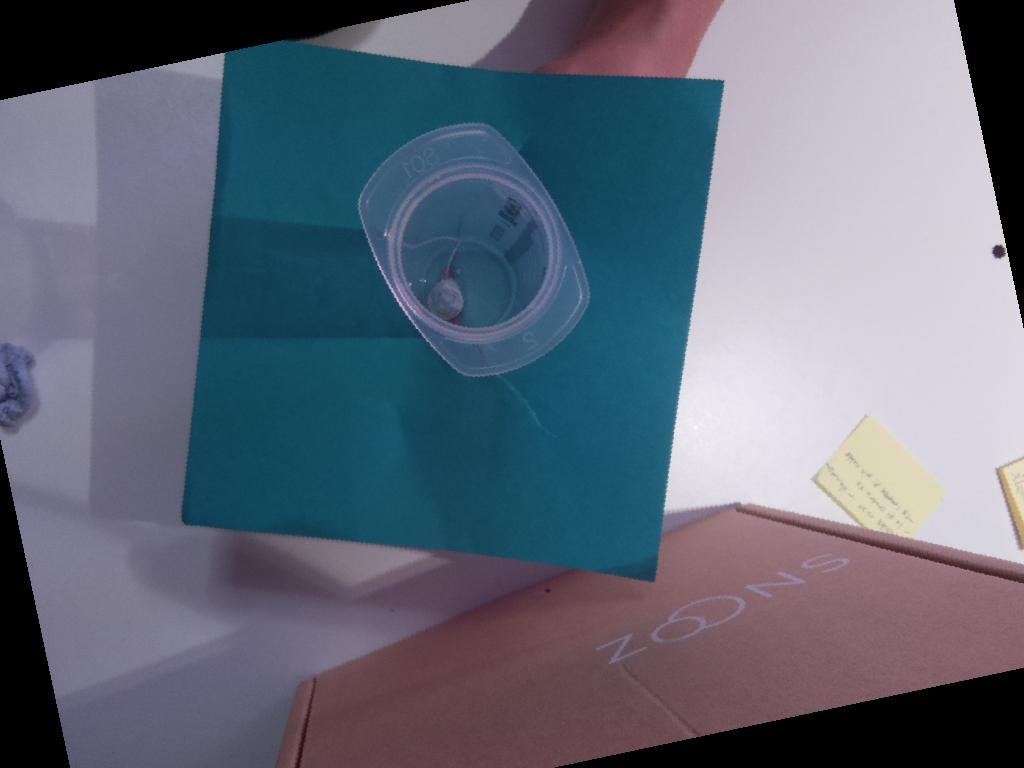clean: (356, 121, 592, 381)
